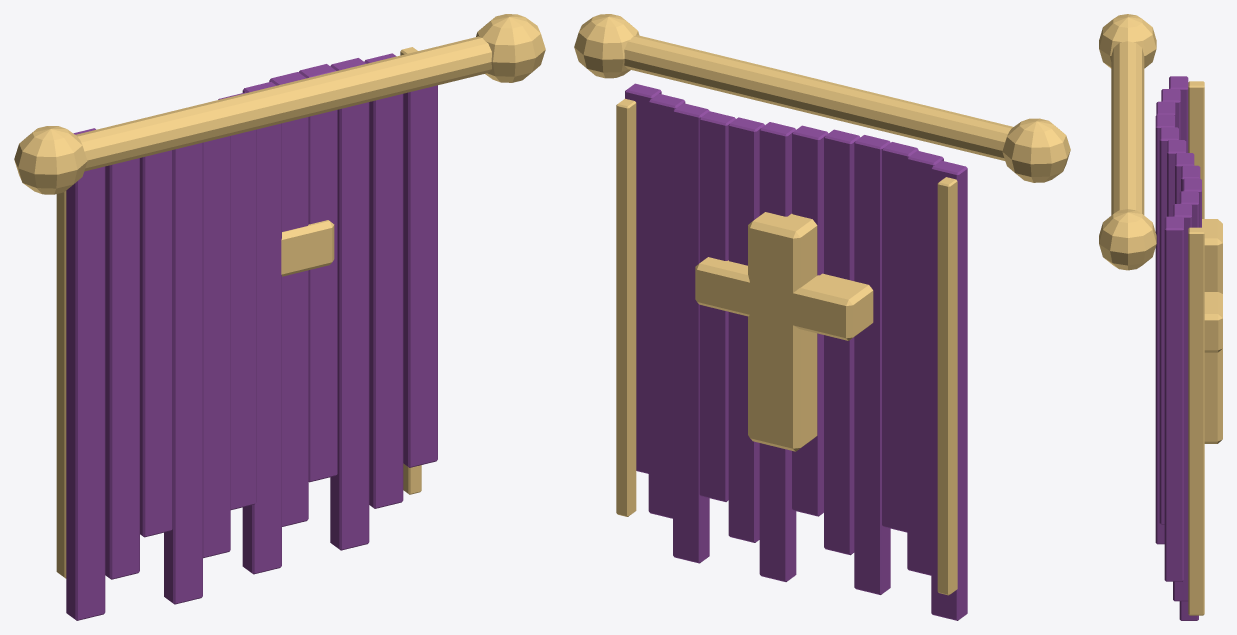
Rendered from crypt_torn_banner.glb.
3 views of the same model, side by side, from view 1: azimuth 30°, elevation 25°; view 2: azimuth 150°, elevation 25°; view 3: azimuth 270°, elevation 25° (orthographic). The views are drawn at different scales.
Bounding box in the file's own units: 0.96 × 0.915 × 0.2253.
